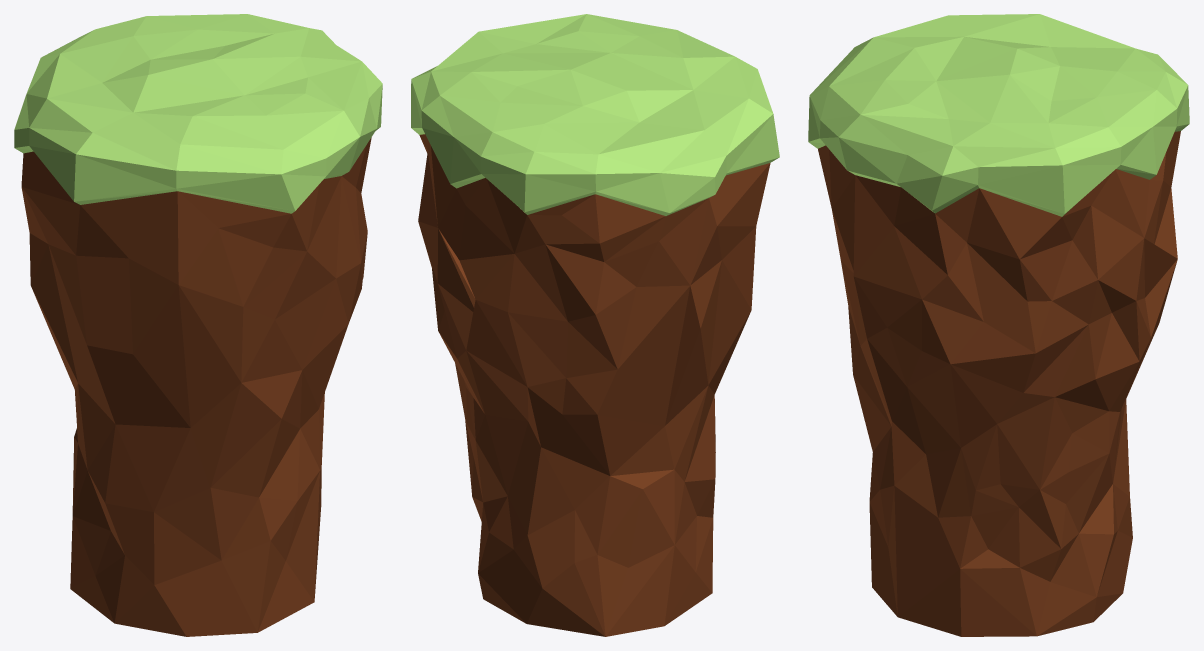
The model's file is GrassPillar.fbx.
3 views of the same model, side by side, from view 1: azimuth 30°, elevation 25°; view 2: azimuth 150°, elevation 25°; view 3: azimuth 270°, elevation 25° (orthographic). The views are drawn at different scales.
Visible parts, largest first — view 1: GrassPillar_LOD0; view 2: GrassPillar_LOD0; view 3: GrassPillar_LOD0.
Part boxes in pixels (bbox=[...]): GrassPillar_LOD0: bbox=[14, 14, 382, 636]; GrassPillar_LOD0: bbox=[411, 14, 779, 636]; GrassPillar_LOD0: bbox=[808, 14, 1189, 636].
Size of what is drawn, in the model's own units: 248 by 394 by 260.
